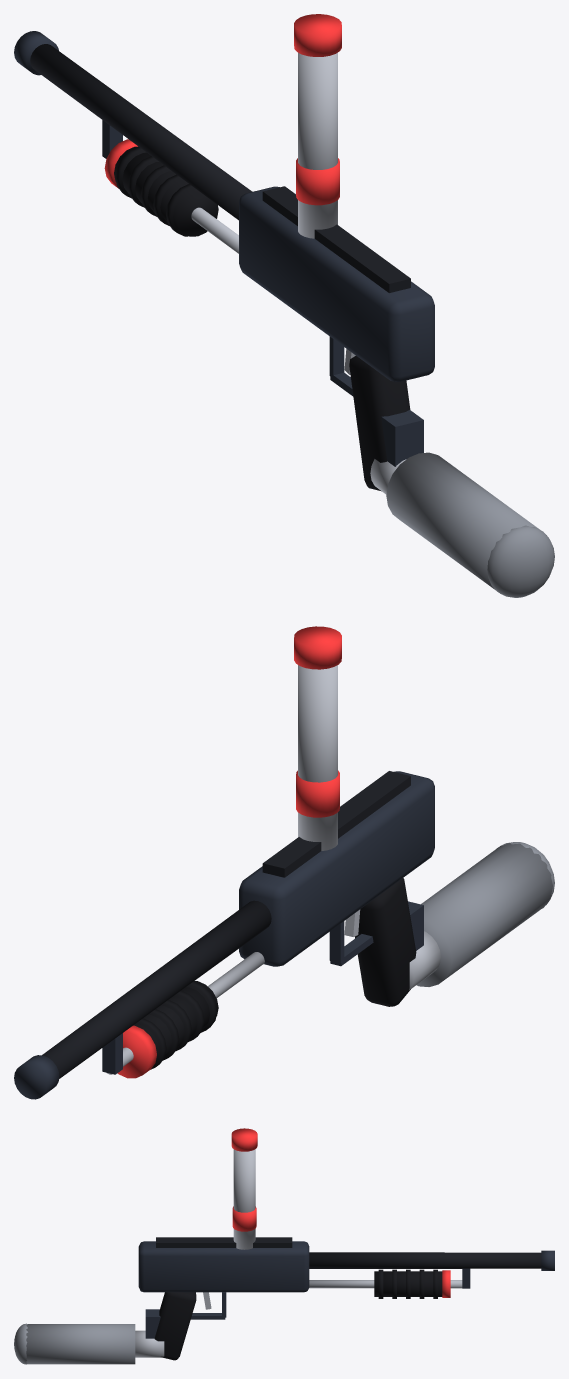
Rendered from pump-marker.glb.
3 views of the same model, one above another, from view 1: azimuth 30°, elevation 25°; view 2: azimuth 150°, elevation 25°; view 3: azimuth 270°, elevation 25° (orthographic). The views are drawn at different scales.
Visible parts, largest first — view 1: marker, pump; view 2: marker, pump; view 3: marker, pump.
Boxes of the visible parts, bbox=[...] form: marker: bbox=[14, 14, 554, 597]; pump: bbox=[104, 139, 218, 236]; marker: bbox=[14, 626, 554, 1099]; pump: bbox=[117, 981, 218, 1078]; marker: bbox=[14, 1128, 554, 1364]; pump: bbox=[374, 1269, 450, 1298].
Size of the model in its own units: 0.06 by 0.37 by 0.793.
